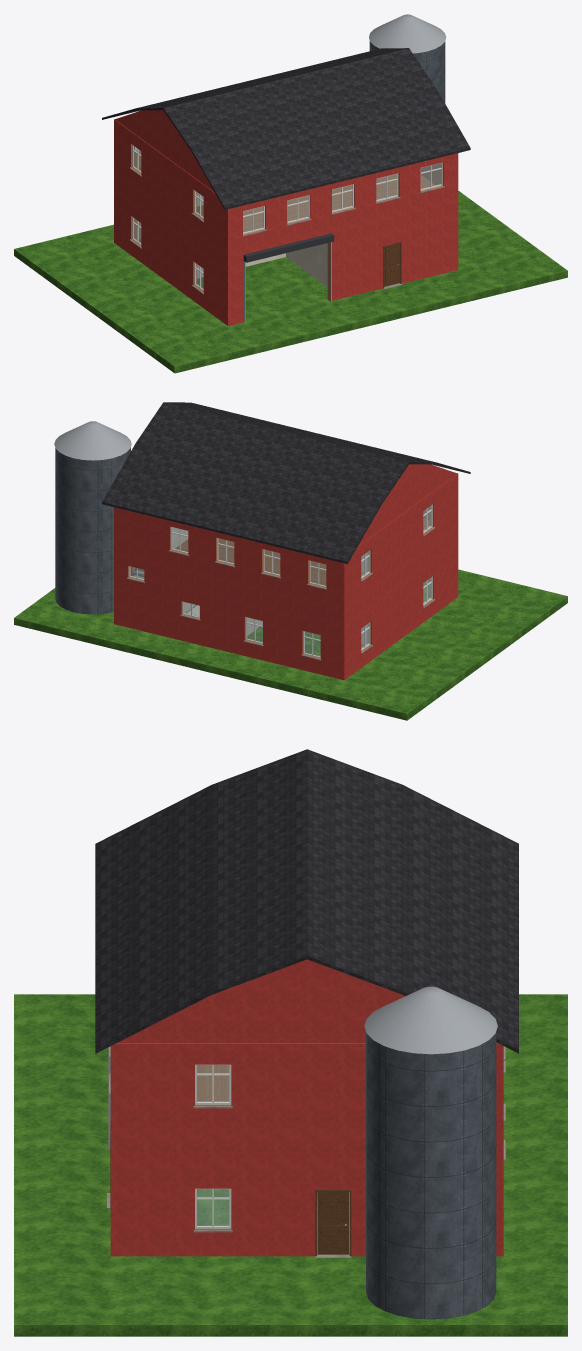
Rendered from b_red_barn.gltf.
The picture shows the model from 3 angles, top to bottom: view 1: azimuth 30°, elevation 25°; view 2: azimuth 150°, elevation 25°; view 3: azimuth 270°, elevation 25°; orthographic projection. The views are drawn at different scales.
Visible parts, largest first — view 1: S_red_barn, D_red_barn_F1_S1_Door0; view 2: S_red_barn; view 3: S_red_barn, D_red_barn_F1_E1_Door0.
Boxes of the visible parts, x1=… form: S_red_barn: x1=14, y1=14, x2=567, y2=373; D_red_barn_F1_S1_Door0: x1=384, y1=243, x2=399, y2=286; S_red_barn: x1=14, y1=402, x2=567, y2=720; S_red_barn: x1=14, y1=749, x2=567, y2=1336; D_red_barn_F1_E1_Door0: x1=317, y1=1191, x2=349, y2=1254.
Bounding box in the file's own units: 24 × 10.8 × 17.
20 materials, 13 textured.
